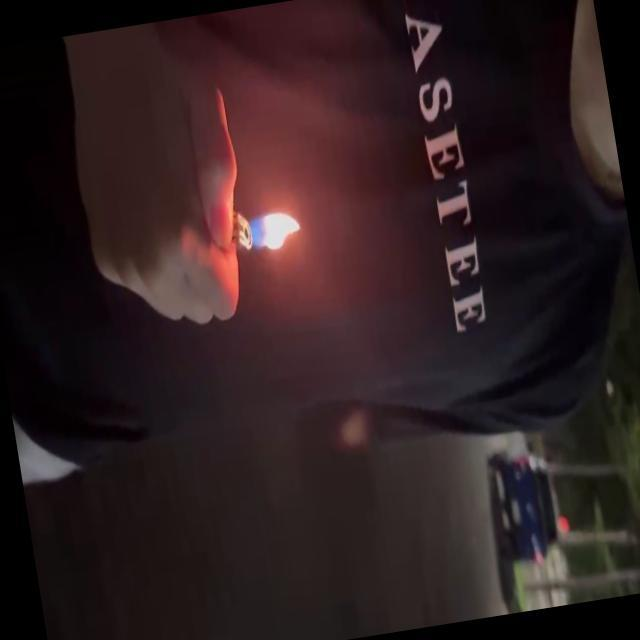Fire: (238, 205, 309, 261)
